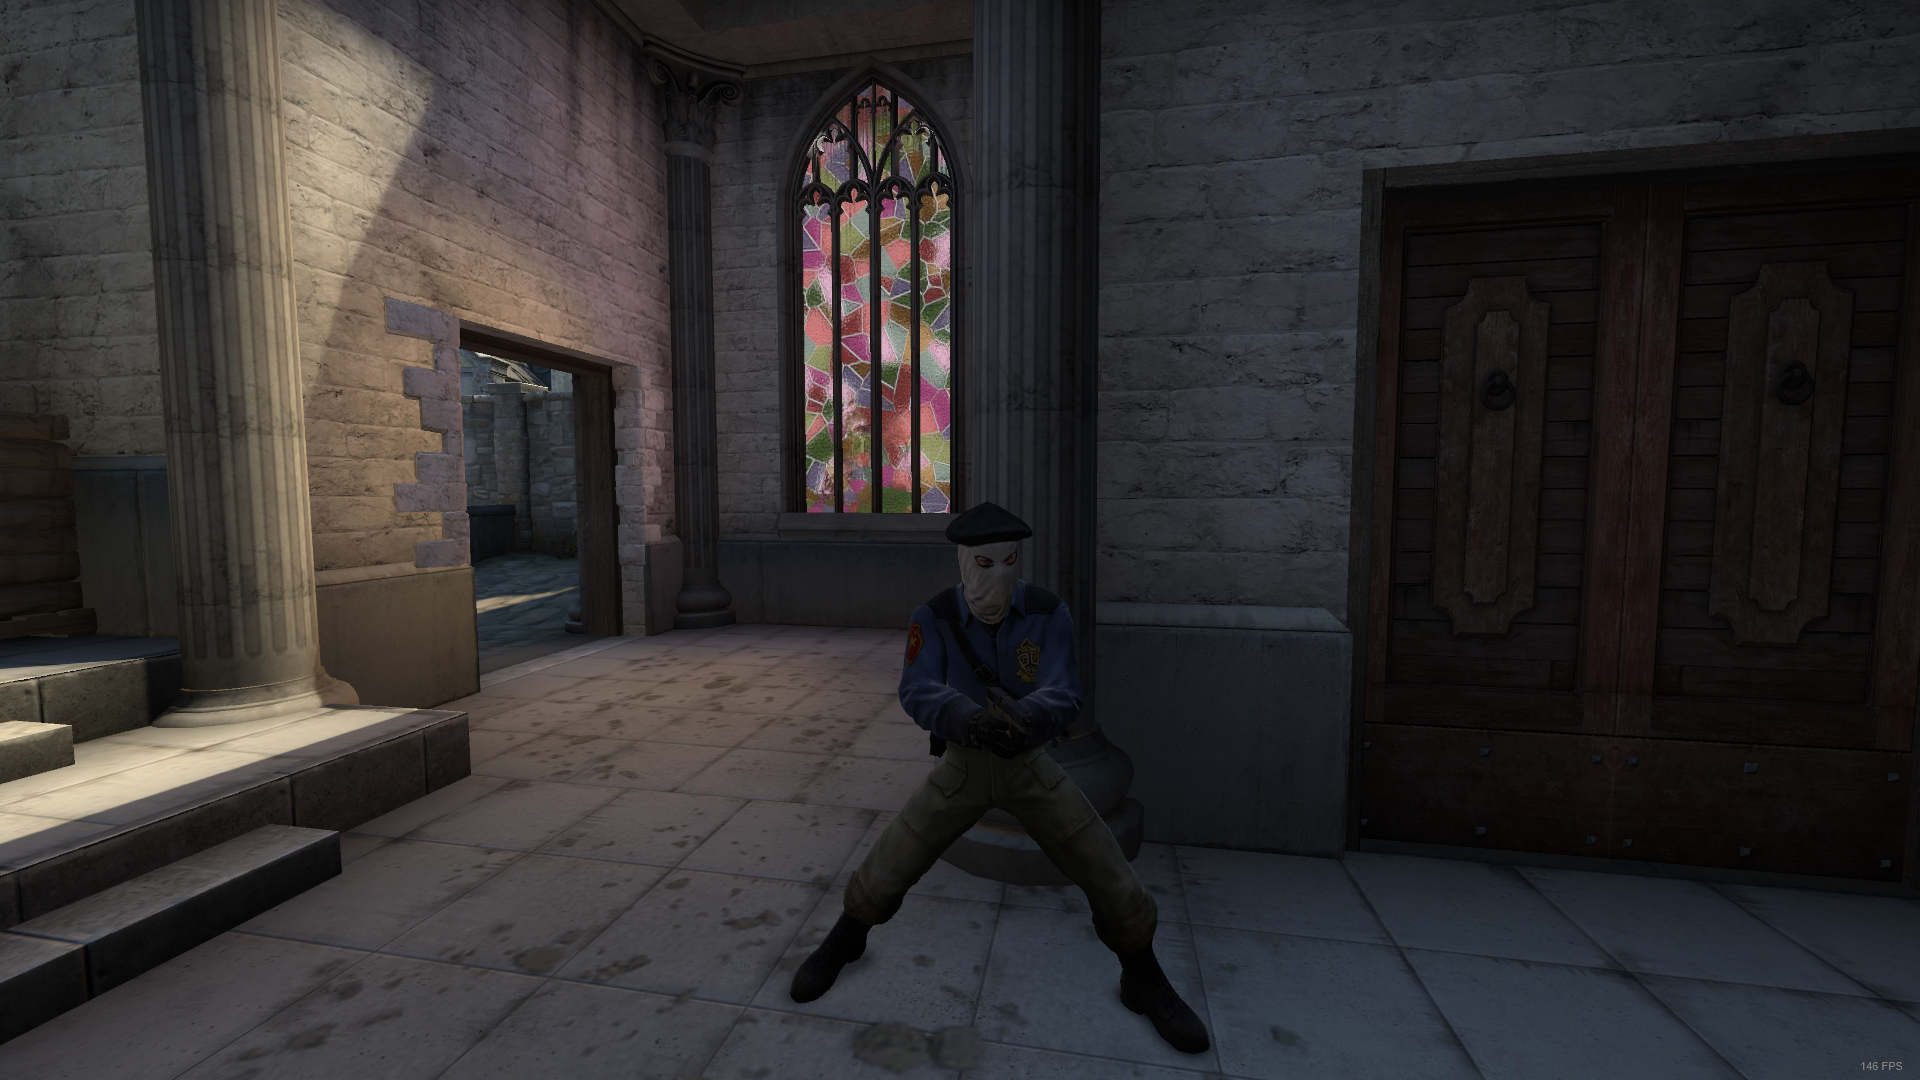t: (777, 473, 1236, 1069)
